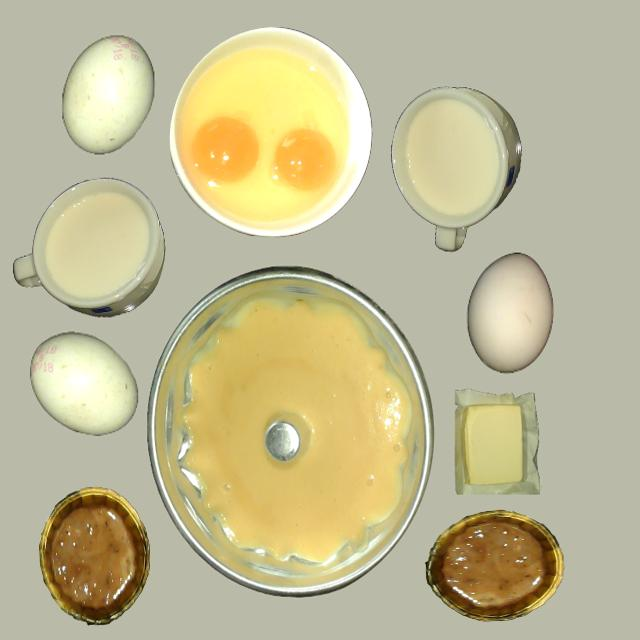Egg: (192, 116, 260, 185), (273, 128, 336, 192)
Sugar: (43, 192, 153, 300), (402, 98, 500, 219)
